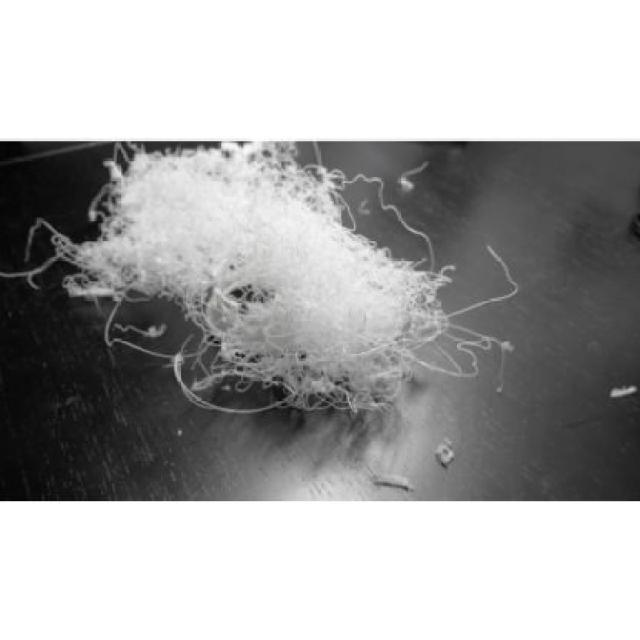spaghetti: (28, 152, 502, 439)
